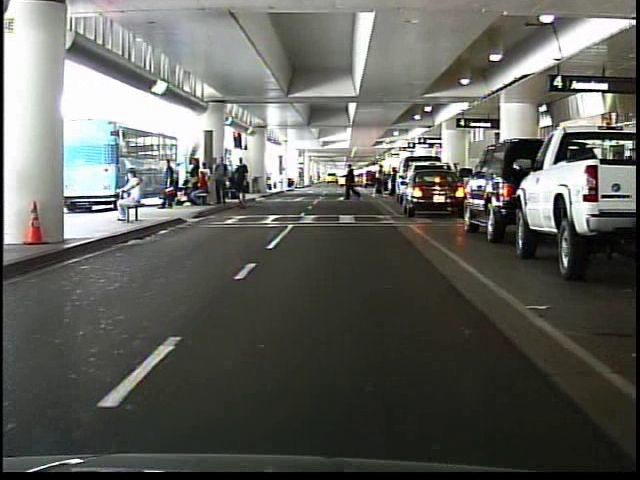person: (104, 166, 148, 226), (156, 156, 179, 212), (343, 161, 363, 205), (373, 160, 389, 197)
